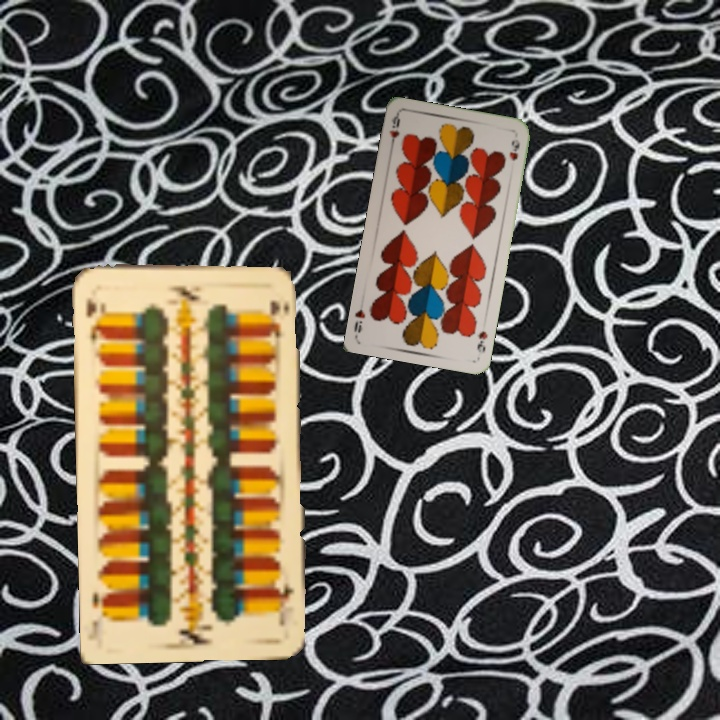E10: (271, 574, 297, 629), (82, 293, 107, 348)
H9: (385, 111, 402, 152), (473, 327, 490, 355)
